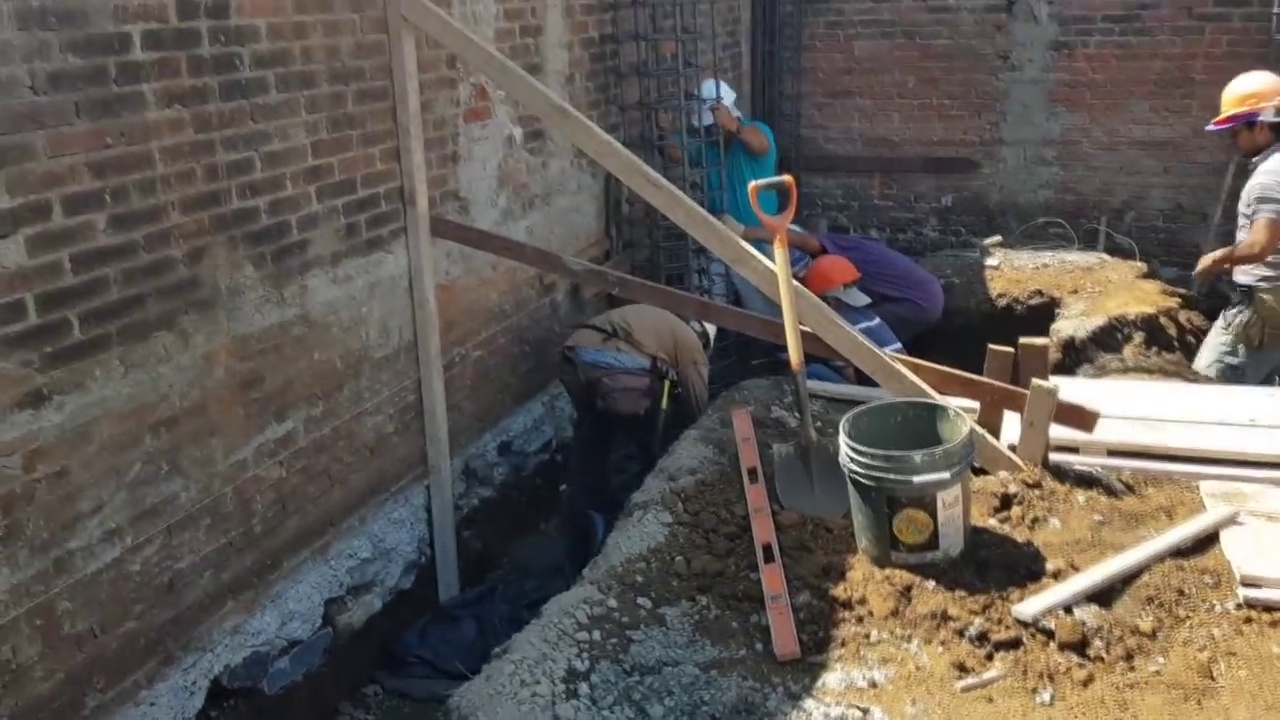helmet: (1210, 72, 1280, 122), (804, 253, 861, 300), (696, 79, 748, 117)
helmet-on: (1206, 69, 1280, 171), (803, 245, 881, 308), (695, 75, 746, 127)
person: (1199, 71, 1280, 385), (566, 299, 720, 459), (694, 73, 781, 292), (792, 223, 947, 332), (796, 251, 909, 377)
